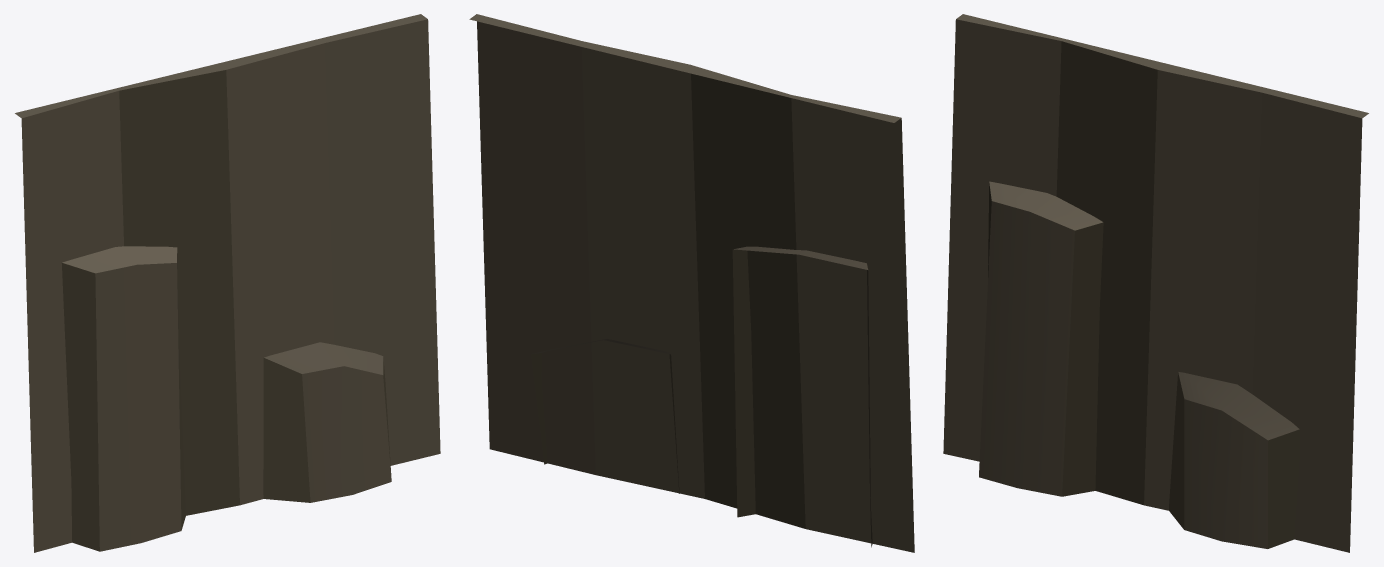
Rendered from SD_Env_Undead_Wall_02.fbx.
3 renders of one model, left to right at view 1: azimuth 30°, elevation 25°; view 2: azimuth 150°, elevation 25°; view 3: azimuth 330°, elevation 25°, orthographic. The views are drawn at different scales.
Visible parts, largest first — view 1: SD_Env_Undead_Wall_02; view 2: SD_Env_Undead_Wall_02; view 3: SD_Env_Undead_Wall_02.
Part boxes in pixels (x1=…): SD_Env_Undead_Wall_02: x1=15, y1=14, x2=440, y2=552; SD_Env_Undead_Wall_02: x1=469, y1=14, x2=914, y2=552; SD_Env_Undead_Wall_02: x1=943, y1=14, x2=1368, y2=552.
Bounding box in the file's own units: 5 × 5 × 0.8482.
